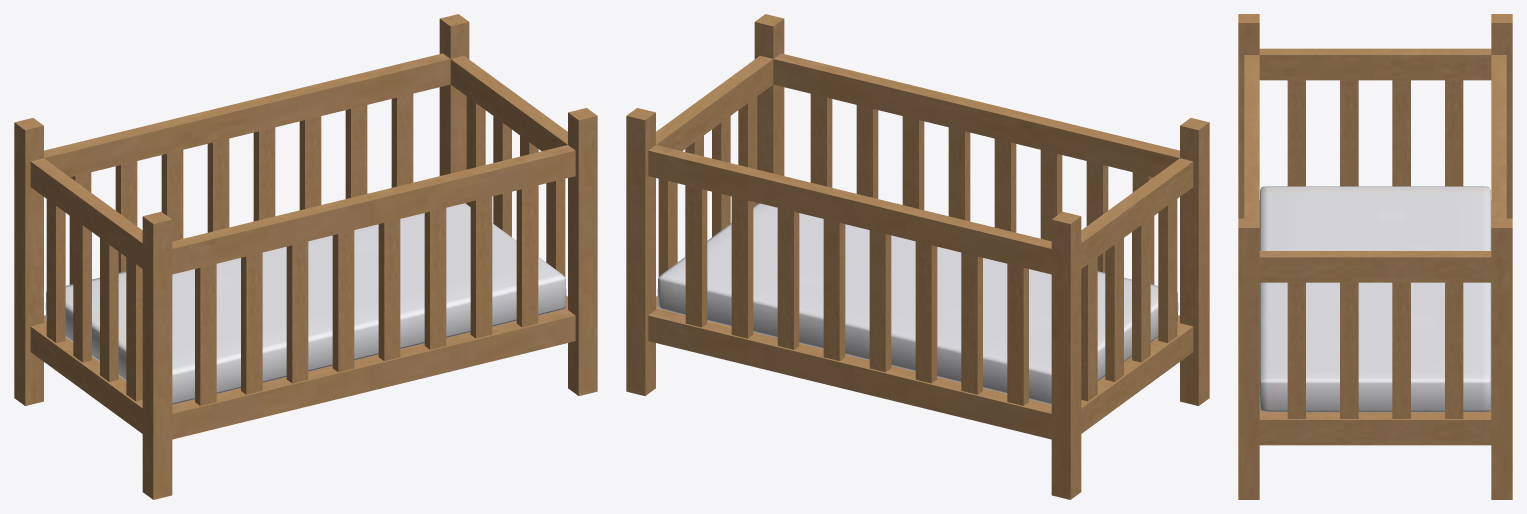
Rendered from Bed33.glb.
3 renders of one model, left to right at view 1: azimuth 30°, elevation 25°; view 2: azimuth 150°, elevation 25°; view 3: azimuth 270°, elevation 25°, orthographic.
Visible parts, largest first — view 1: BedFrame33, Mattress33; view 2: BedFrame33, Mattress33; view 3: BedFrame33, Mattress33.
Boxes of the visible parts, x1=… form: BedFrame33: x1=14, y1=14, x2=597, y2=499; Mattress33: x1=45, y1=203, x2=566, y2=404; BedFrame33: x1=626, y1=14, x2=1209, y2=499; Mattress33: x1=657, y1=203, x2=1178, y2=404; BedFrame33: x1=1238, y1=14, x2=1512, y2=499; Mattress33: x1=1259, y1=186, x2=1491, y2=412.
Size of the model in its own units: 3.05 by 1.81 by 1.65.
2 materials, 2 textured.
